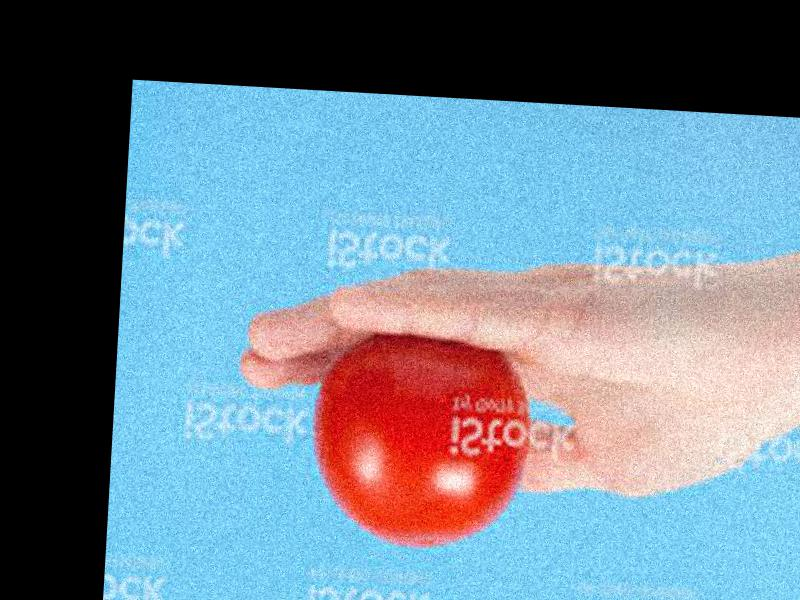Tomato: (308, 332, 531, 547)
